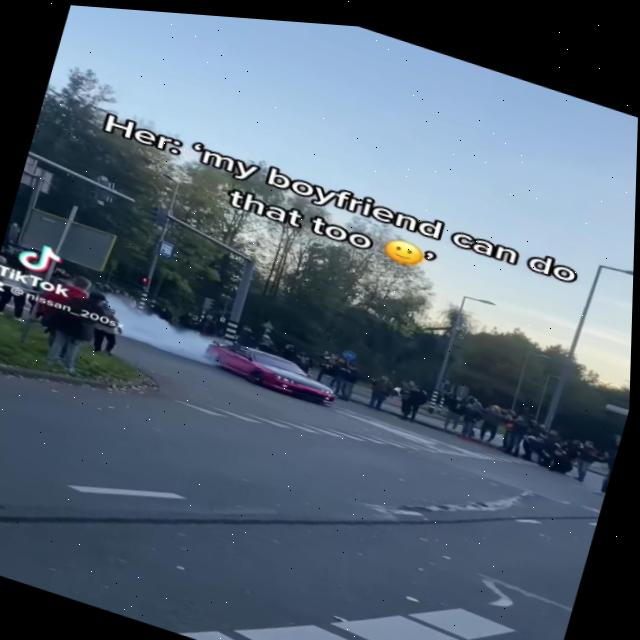vehicle: (204, 327, 350, 409)
